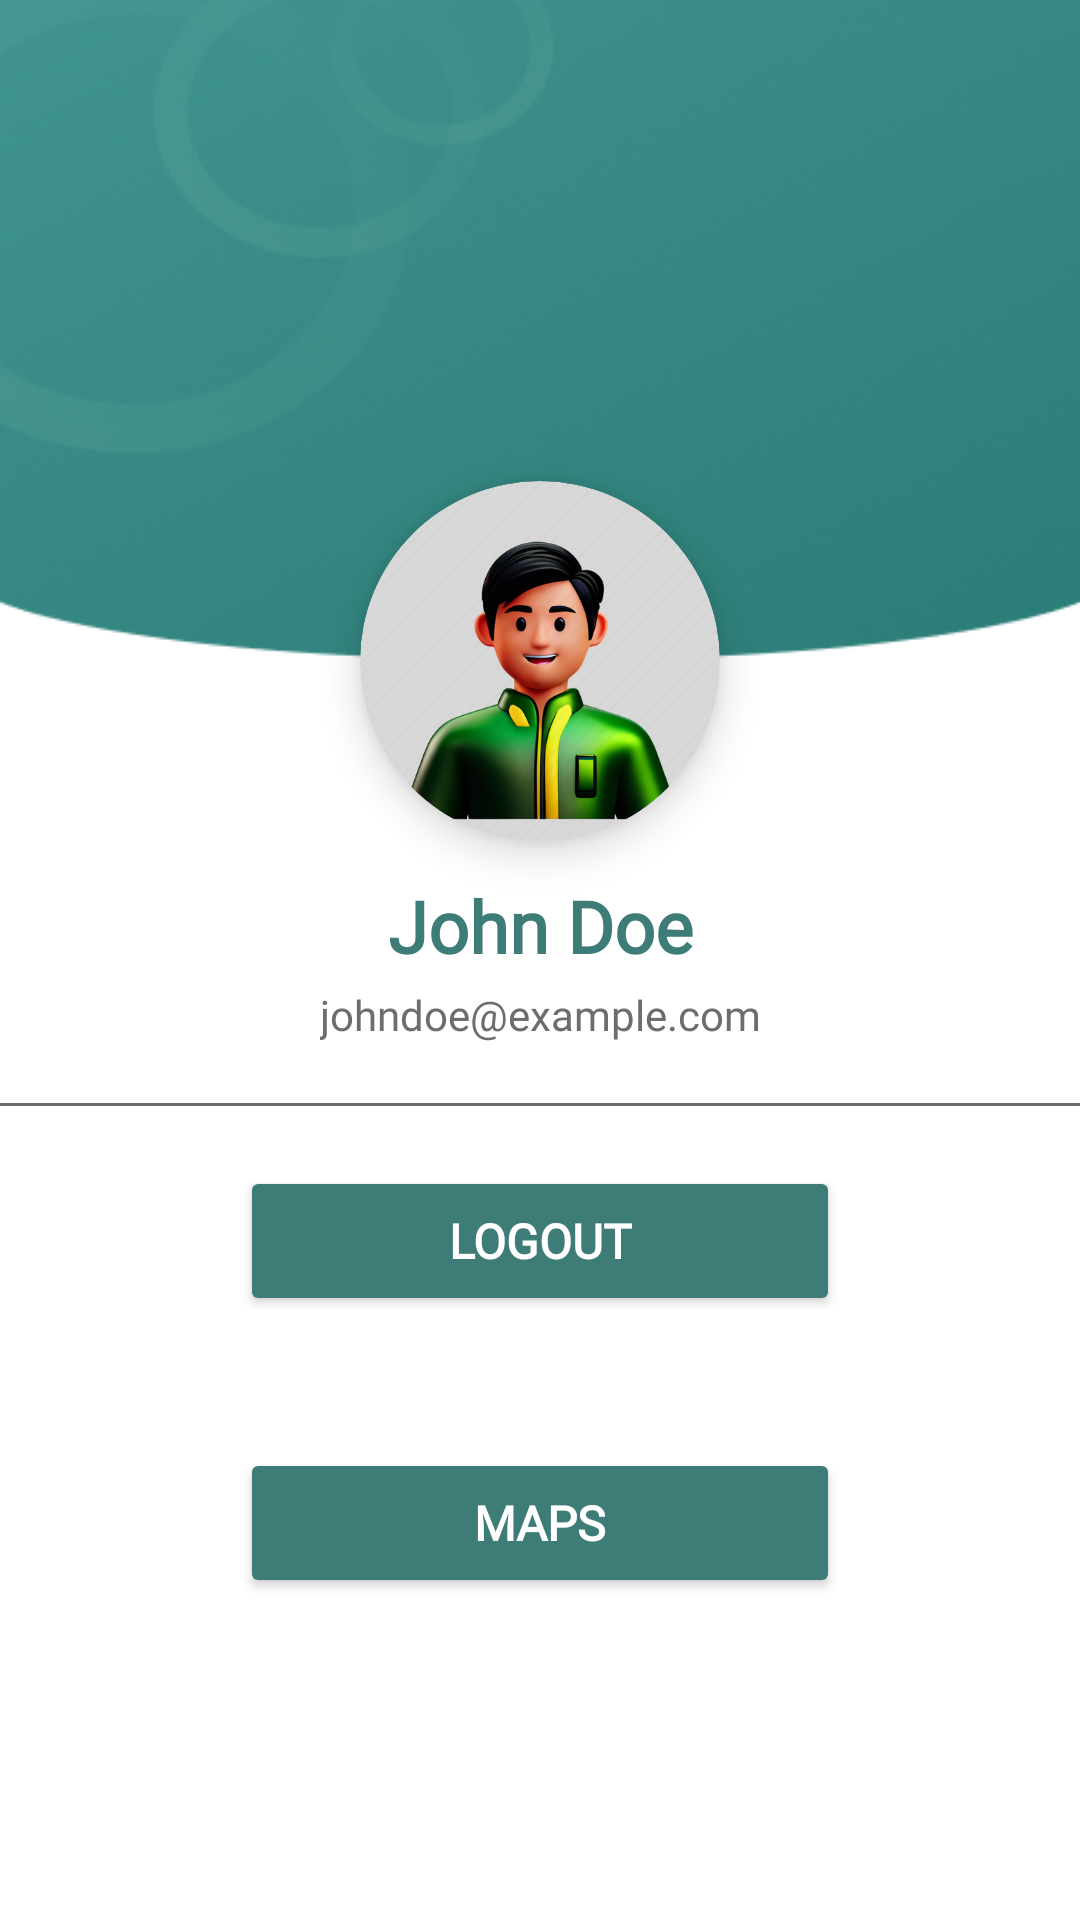

Point at icon controls on the screen. Image size 1080*1920, points as (x=x, y=y).
User Profile Image: (x=540, y=661)
